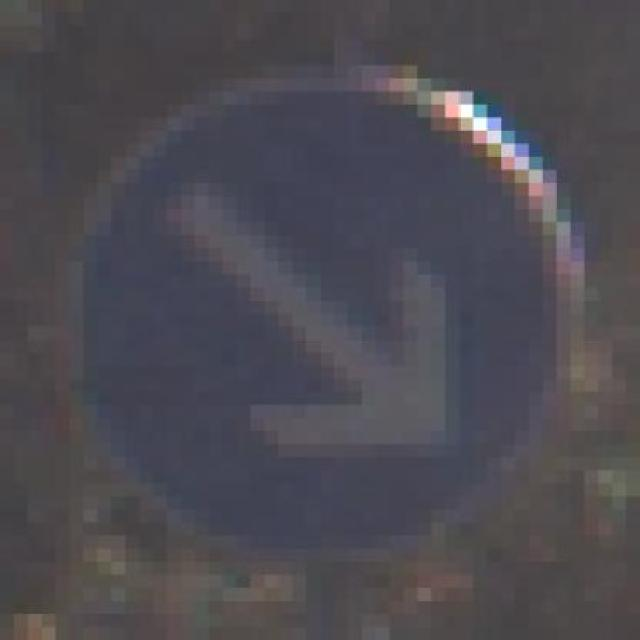Keep-Right: (56, 52, 584, 576)
